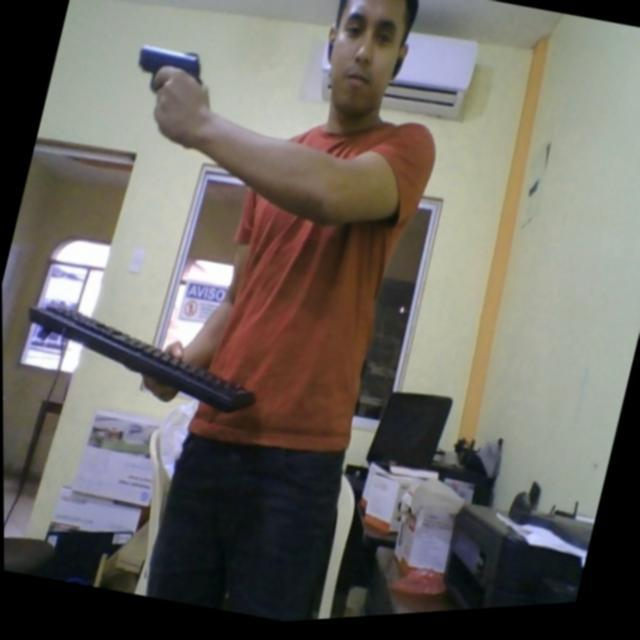weapon: (129, 36, 210, 109)
